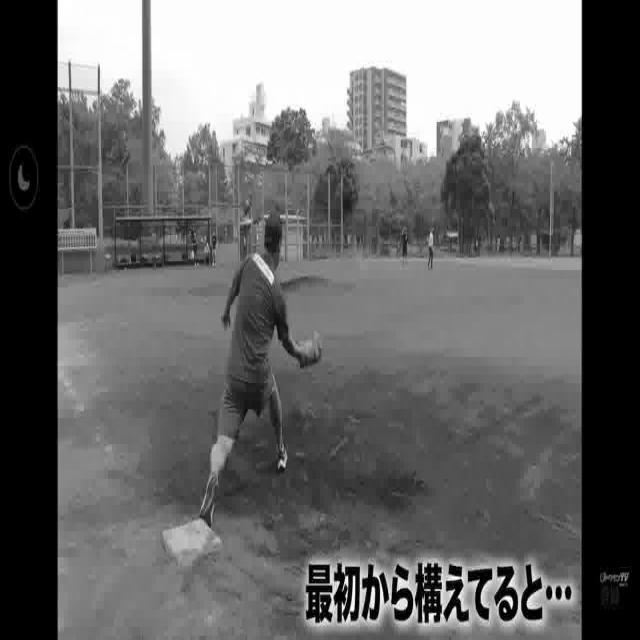base: (161, 517, 221, 573)
baseball_glove: (298, 334, 324, 368)
shoe: (200, 477, 220, 523), (276, 445, 290, 473)
